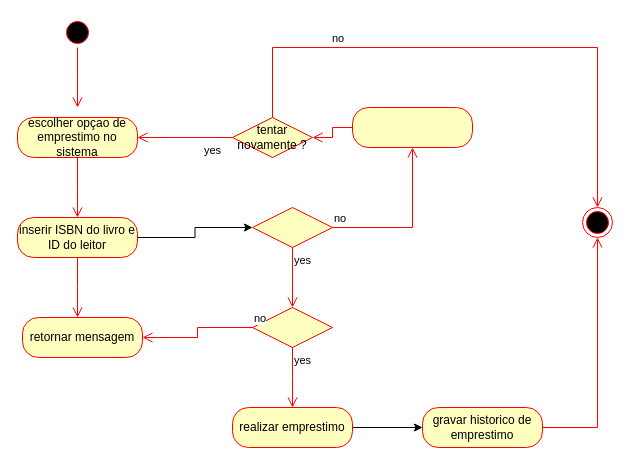
This 630x465 diagram has some shape labels left out. The centre of each missing label's shape, as x and y in pixels:
"leitor registrado?" belongs at pixel 292 227.
"livros disponiveis" belongs at pixel 292 327.
"registrar leitor" belongs at pixel 412 127.
